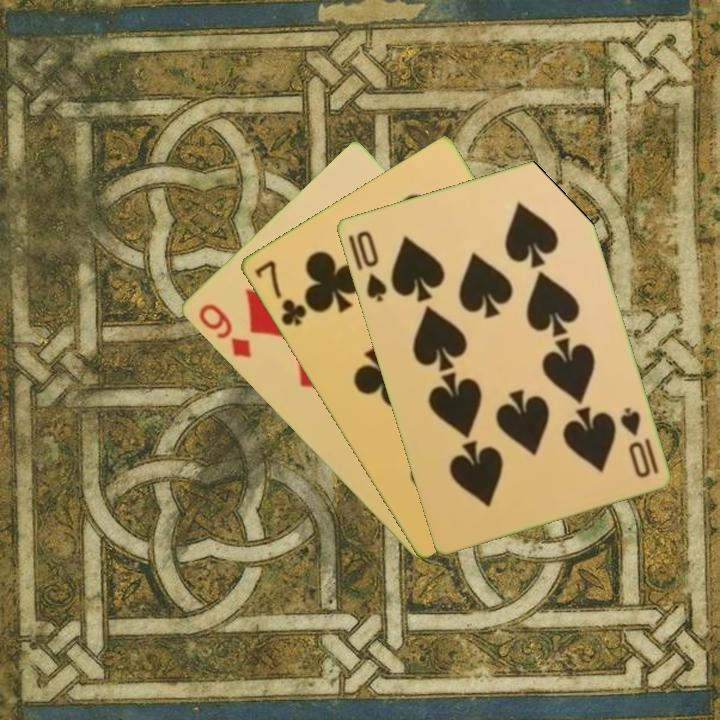10s: (344, 226, 390, 305), (616, 403, 661, 481)
7c: (250, 256, 310, 329)
9d: (194, 300, 254, 361)
